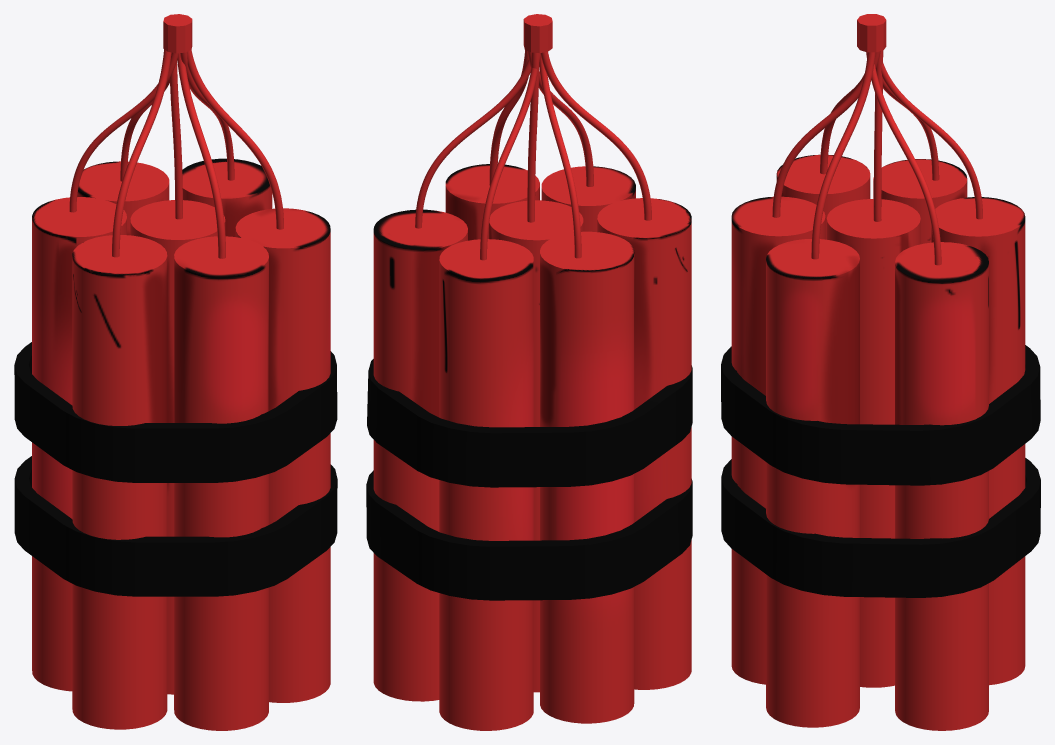
Rendered from dynamite.fbx.
3 views of the same model, side by side, from view 1: azimuth 30°, elevation 25°; view 2: azimuth 150°, elevation 25°; view 3: azimuth 270°, elevation 25° (orthographic).
Parts seen in each view (by area): view 1: Circle; view 2: Circle; view 3: Circle.
Part boxes in pixels (x1=…): Circle: x1=14, y1=14, x2=337, y2=730; Circle: x1=366, y1=14, x2=692, y2=730; Circle: x1=721, y1=14, x2=1040, y2=730.
Size of the model in its own units: 0.3924 by 0.4119 by 0.9256.
Materials: 1 (1 with a texture image).
